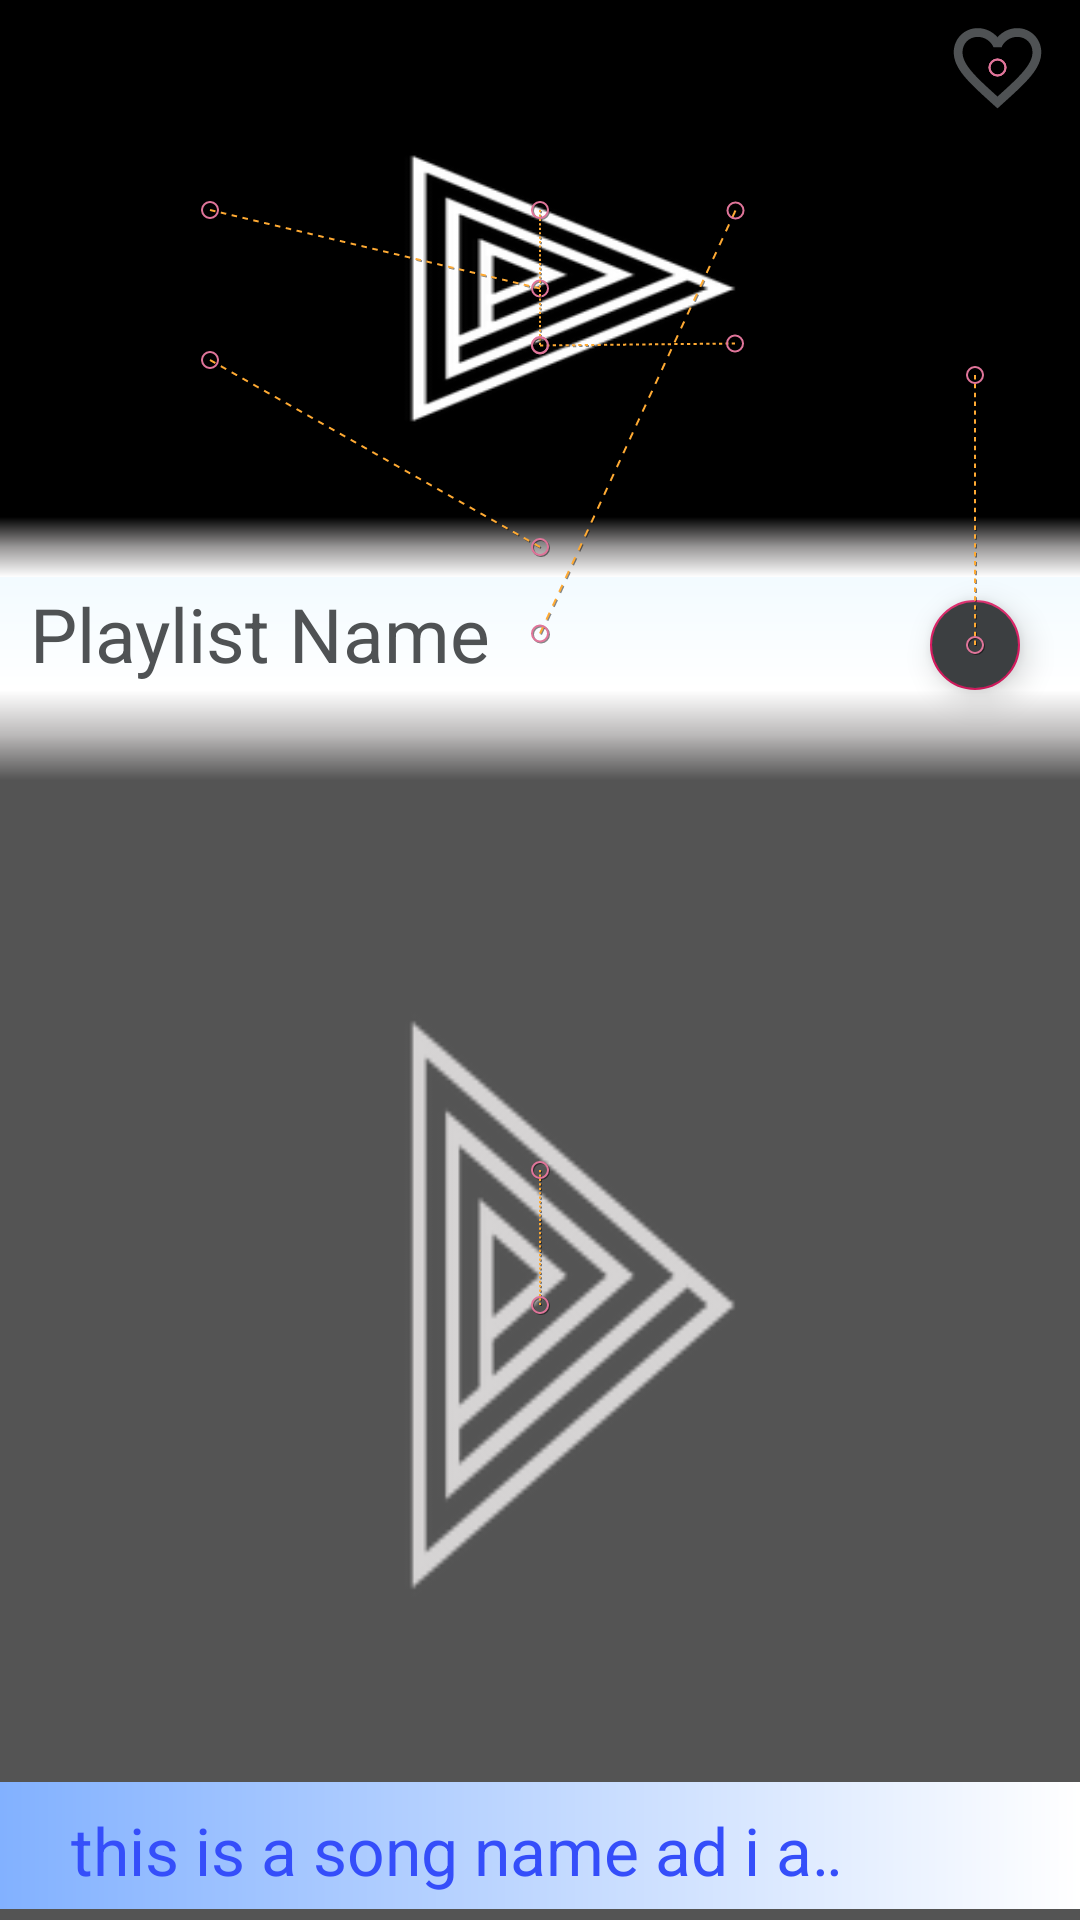

Icon bounding boxes for this 1080 × 1920 phone screenshot, format detection(x1, y1, x2, y2):
favourate: detection(954, 28, 1041, 108)
